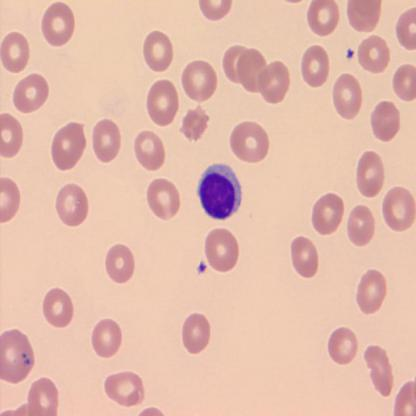Lymphocyte: (196, 163, 242, 220)
